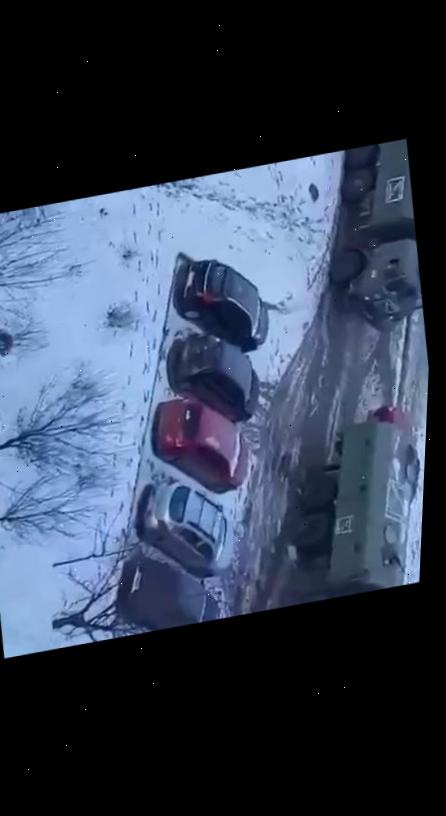car: (132, 465, 244, 589), (144, 384, 258, 501), (171, 246, 276, 362), (104, 540, 224, 639), (166, 321, 266, 430)
truck: (265, 410, 427, 607), (310, 137, 432, 335)
